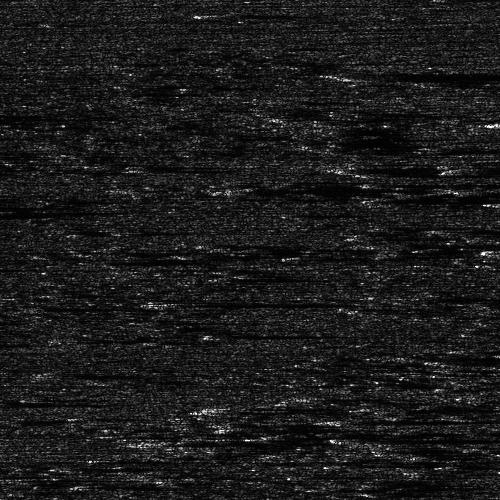rock: (287, 159, 412, 174), (417, 240, 500, 259), (428, 160, 500, 177), (362, 352, 435, 363), (210, 413, 241, 434), (123, 298, 186, 305), (215, 422, 246, 433), (144, 429, 155, 454), (477, 117, 500, 126), (323, 435, 354, 440), (324, 419, 365, 422), (193, 331, 224, 334), (0, 398, 8, 405), (156, 499, 197, 500)
shadow: (150, 429, 391, 454), (350, 159, 500, 174), (226, 413, 324, 434), (399, 352, 500, 363), (231, 422, 329, 433), (155, 298, 300, 305), (0, 398, 127, 405), (470, 240, 500, 259), (339, 435, 442, 440), (470, 160, 500, 177), (345, 419, 447, 422), (209, 331, 307, 334), (177, 499, 417, 500)
